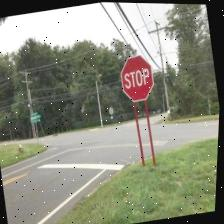Stop: (116, 50, 158, 105)
